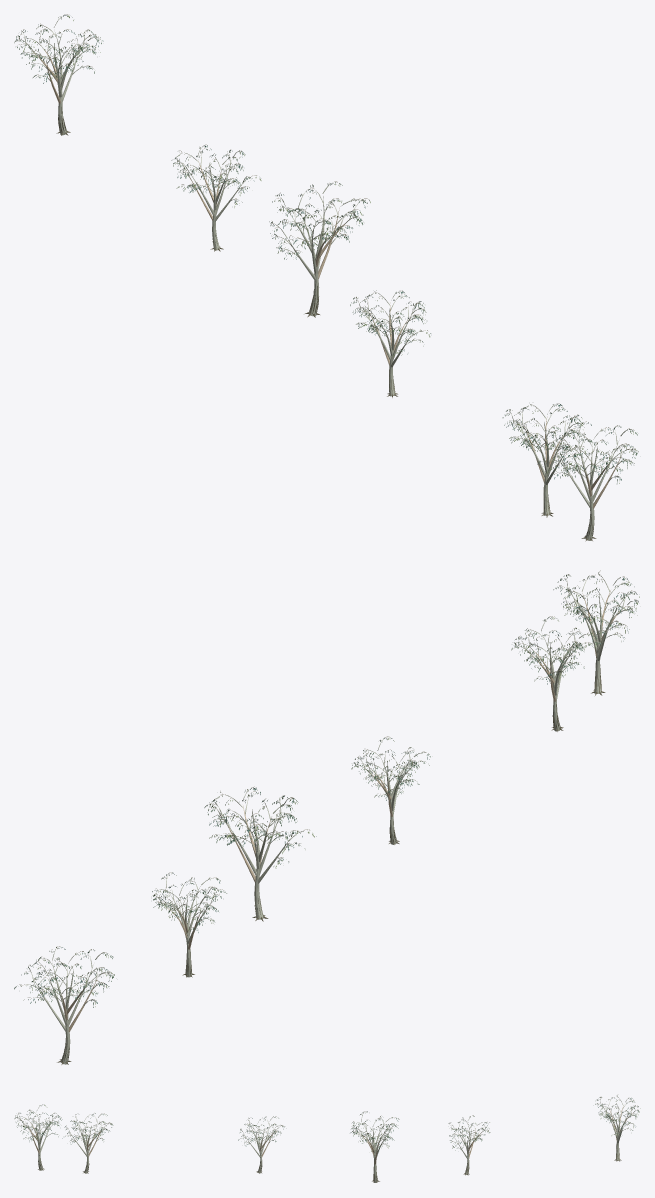
File: ecology-eucalyptus-mid-5.glb
3 views of the same model, one above another, from view 1: azimuth 30°, elevation 25°; view 2: azimuth 150°, elevation 25°; view 3: azimuth 270°, elevation 25° (orthographic). The views are drawn at different scales.
Parts seen in each view (by area): view 1: eucalyptus-mid-33, eucalyptus-mid-38, eucalyptus-mid-30, eucalyptus-mid-37, eucalyptus-mid-31, eucalyptus-mid-34; view 2: eucalyptus-mid-33, eucalyptus-mid-30, eucalyptus-mid-38, eucalyptus-mid-37, eucalyptus-mid-31, eucalyptus-mid-34; view 3: eucalyptus-mid-33, eucalyptus-mid-38, eucalyptus-mid-37, eucalyptus-mid-30, eucalyptus-mid-34, eucalyptus-mid-31.
Boxes of the visible parts, <box> form: eucalyptus-mid-33: <box>269,181,370,317</box>; eucalyptus-mid-38: <box>537,421,638,541</box>; eucalyptus-mid-30: <box>14,14,103,135</box>; eucalyptus-mid-37: <box>502,403,587,517</box>; eucalyptus-mid-31: <box>171,144,261,251</box>; eucalyptus-mid-34: <box>350,290,430,397</box>; eucalyptus-mid-33: <box>204,786,316,921</box>; eucalyptus-mid-30: <box>14,946,114,1064</box>; eucalyptus-mid-38: <box>553,570,639,695</box>; eucalyptus-mid-37: <box>511,616,596,731</box>; eucalyptus-mid-31: <box>152,872,226,977</box>; eucalyptus-mid-34: <box>351,736,430,844</box>; eucalyptus-mid-33: <box>350,1111,399,1182</box>; eucalyptus-mid-38: <box>14,1104,62,1170</box>; eucalyptus-mid-37: <box>62,1113,113,1173</box>; eucalyptus-mid-30: <box>595,1095,640,1161</box>; eucalyptus-mid-34: <box>238,1116,284,1173</box>; eucalyptus-mid-31: <box>448,1115,490,1175</box>.
Size of the model in its own units: 15.05 by 15.11 by 118.
